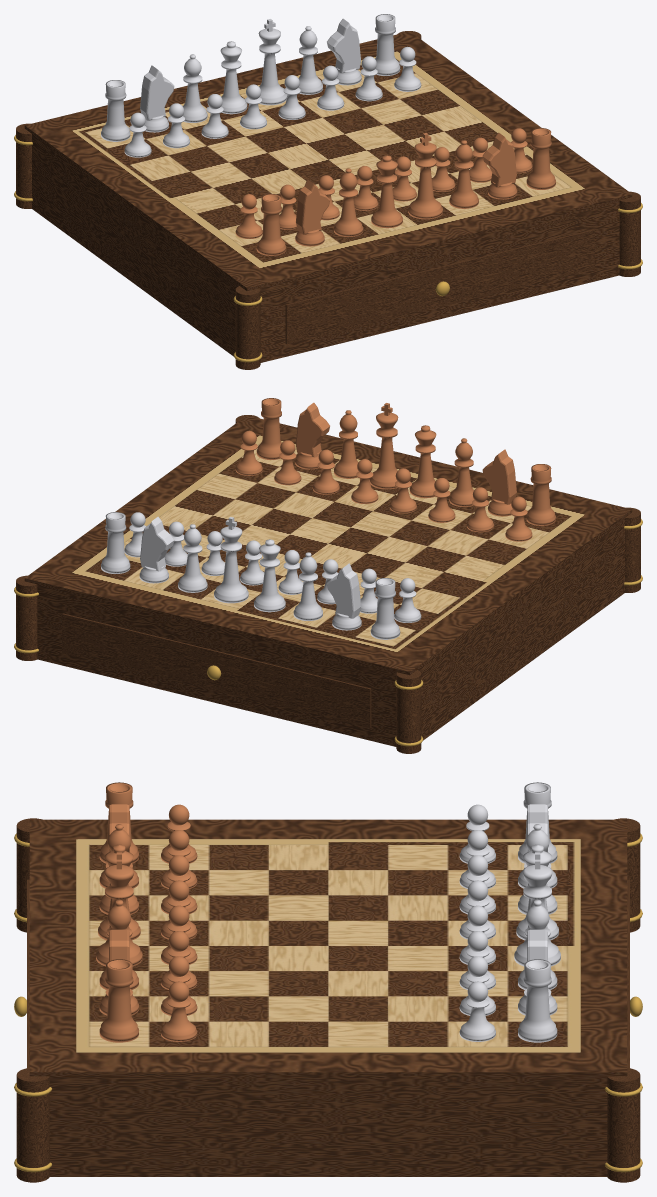
The model's file is philidor-3d-loupe-noyer-32.glb.
The picture shows the model from 3 angles, top to bottom: view 1: azimuth 30°, elevation 25°; view 2: azimuth 150°, elevation 25°; view 3: azimuth 270°, elevation 25°; orthographic projection. The views are drawn at different scales.
Parts seen in each view (by area): view 1: loupe-noyer-32; view 2: loupe-noyer-32; view 3: loupe-noyer-32.
Boxes of the visible parts, x1,y1,x2,y2 form: loupe-noyer-32: (14,14,642,369); loupe-noyer-32: (14,398,642,753); loupe-noyer-32: (14,782,642,1182).
Size of what is drawn, in the model's own units: 0.3368 by 0.124 by 0.3368.
Materials: 10 (7 with a texture image).
